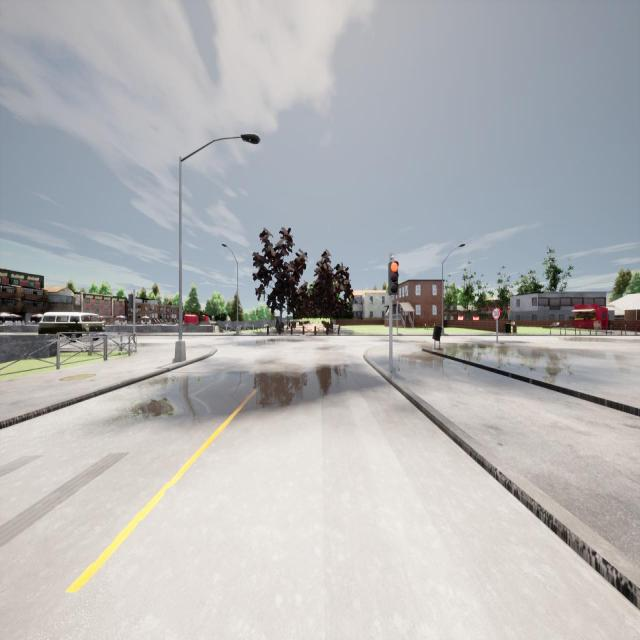Pedestrian: (275, 316, 279, 333)
Traffic_Signs: (492, 308, 501, 320)
Vehicle: (38, 312, 104, 342)
traffic_light: (388, 262, 398, 294), (128, 294, 134, 309), (398, 304, 401, 314)
